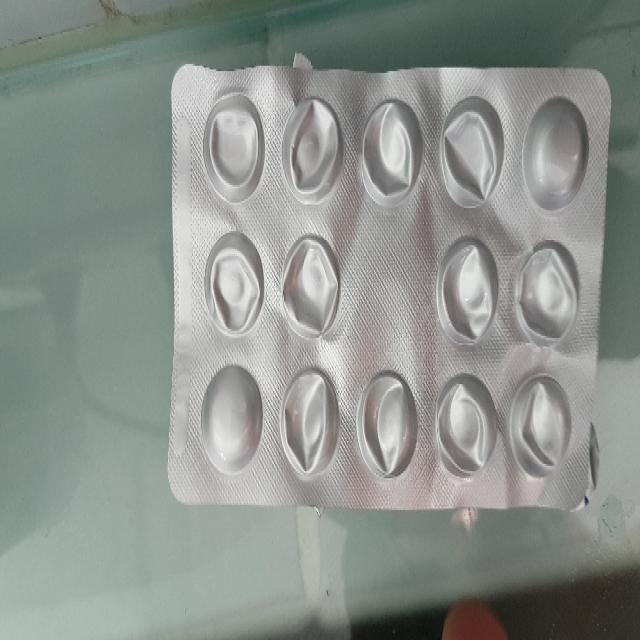Empty: (435, 97, 505, 216), (200, 82, 266, 206), (430, 364, 498, 482), (512, 236, 581, 352), (277, 91, 347, 204), (351, 365, 418, 482), (277, 228, 343, 346), (354, 92, 421, 208), (508, 364, 572, 485), (276, 360, 339, 482), (202, 222, 266, 342), (434, 229, 498, 348)
Pill: (517, 95, 593, 216), (196, 363, 267, 474)
